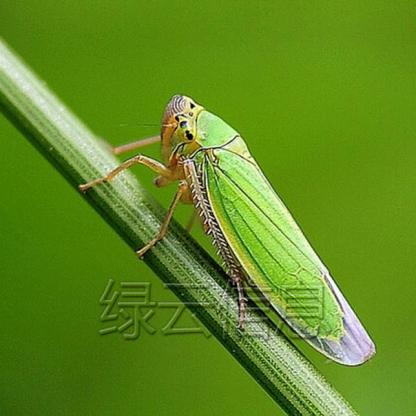Green-Leafhopper: (83, 95, 376, 366)
